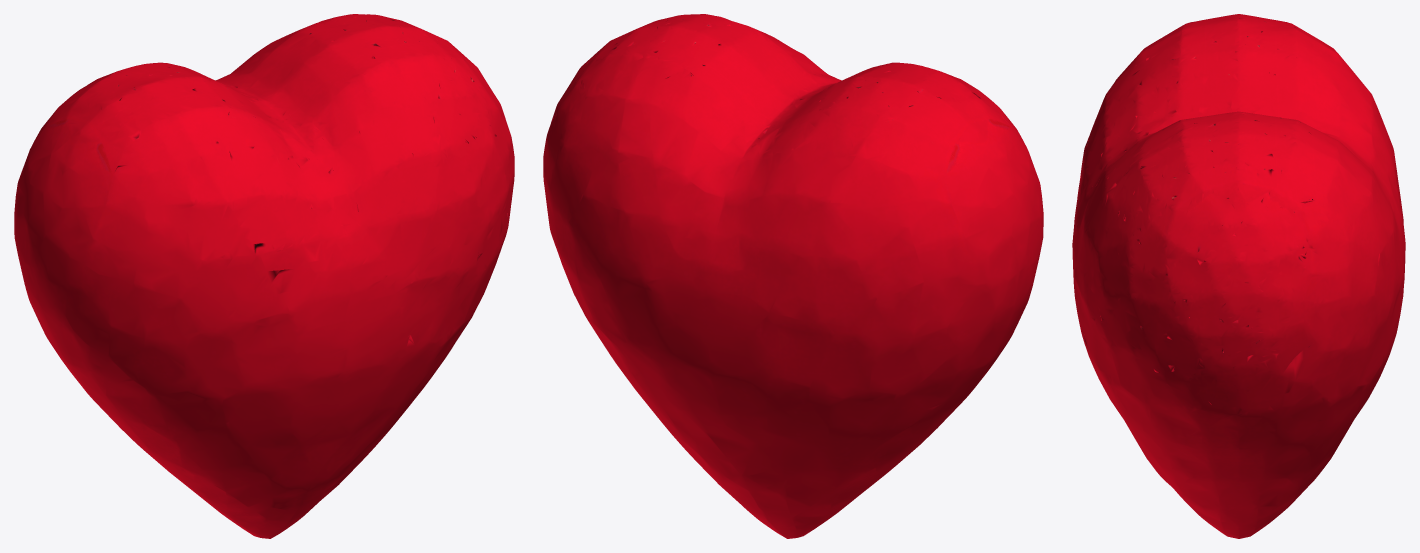
The model's file is heart.glb.
3 views of the same model, side by side, from view 1: azimuth 30°, elevation 25°; view 2: azimuth 150°, elevation 25°; view 3: azimuth 270°, elevation 25° (orthographic). The views are drawn at different scales.
Size of the model in its own units: 1.91 by 1.91 by 1.25.
1 material, 1 textured.
